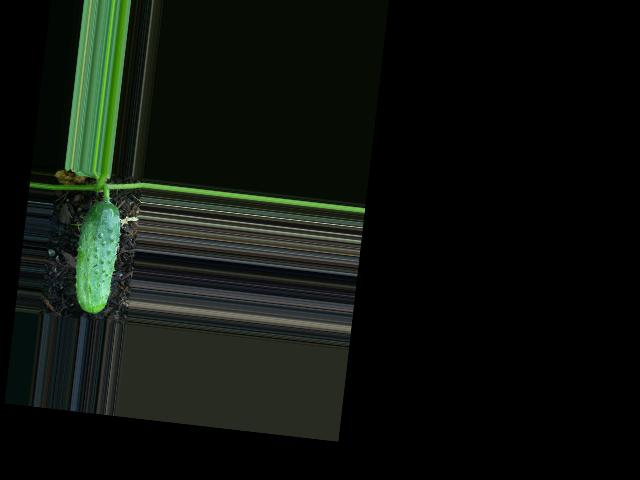cucumber: (70, 198, 123, 316)
